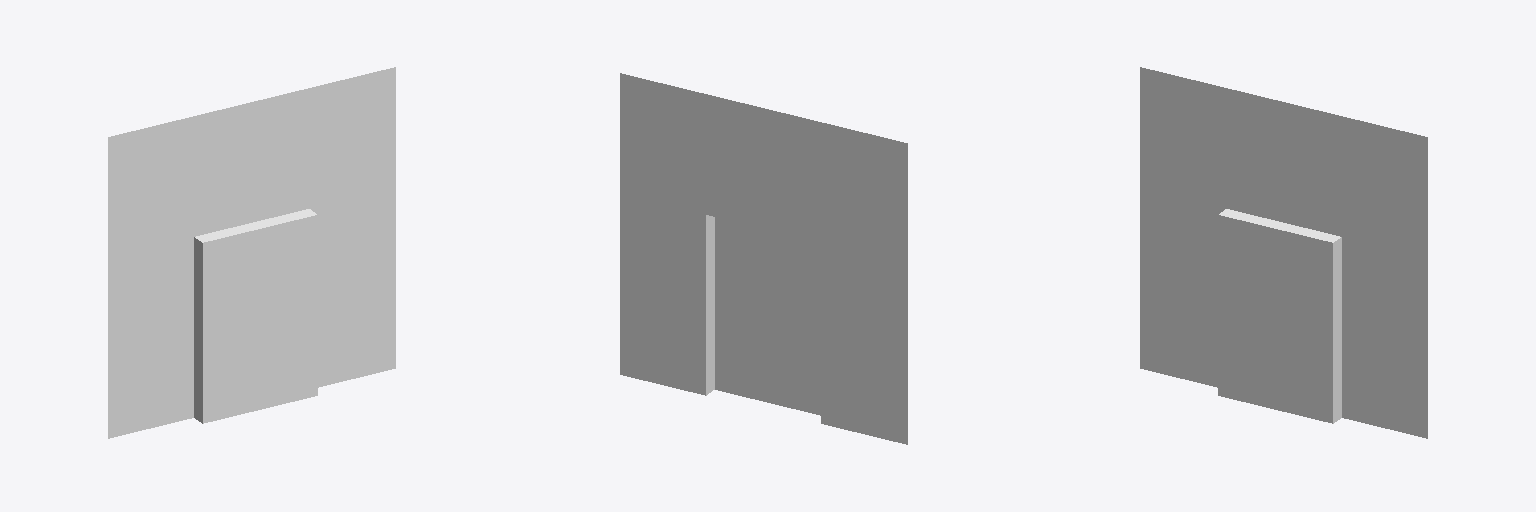
File: wall-pane-wood-door.obj
3 views of the same model, side by side, from view 1: azimuth 30°, elevation 25°; view 2: azimuth 150°, elevation 25°; view 3: azimuth 330°, elevation 25° (orthographic).
Visible parts, largest first — view 1: wall-pane-wood-door; view 2: wall-pane-wood-door; view 3: wall-pane-wood-door.
Boxes of the visible parts, <box> form: wall-pane-wood-door: <box>108,67,395,438</box>; wall-pane-wood-door: <box>620,73,907,444</box>; wall-pane-wood-door: <box>1140,67,1427,438</box>.
Bounding box in the file's own units: 1 × 1 × 0.05.